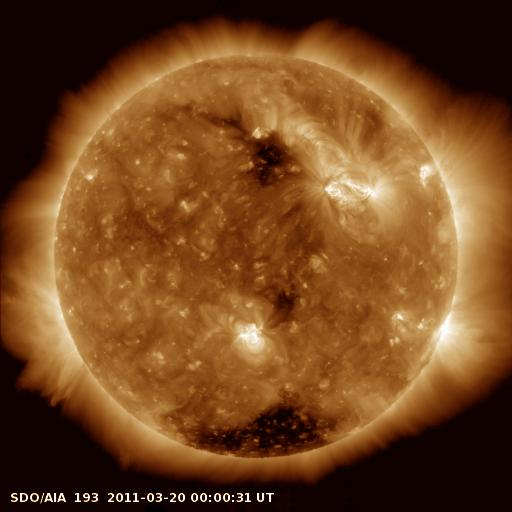coronal_hole: (176, 397, 343, 468), (218, 118, 303, 180)
